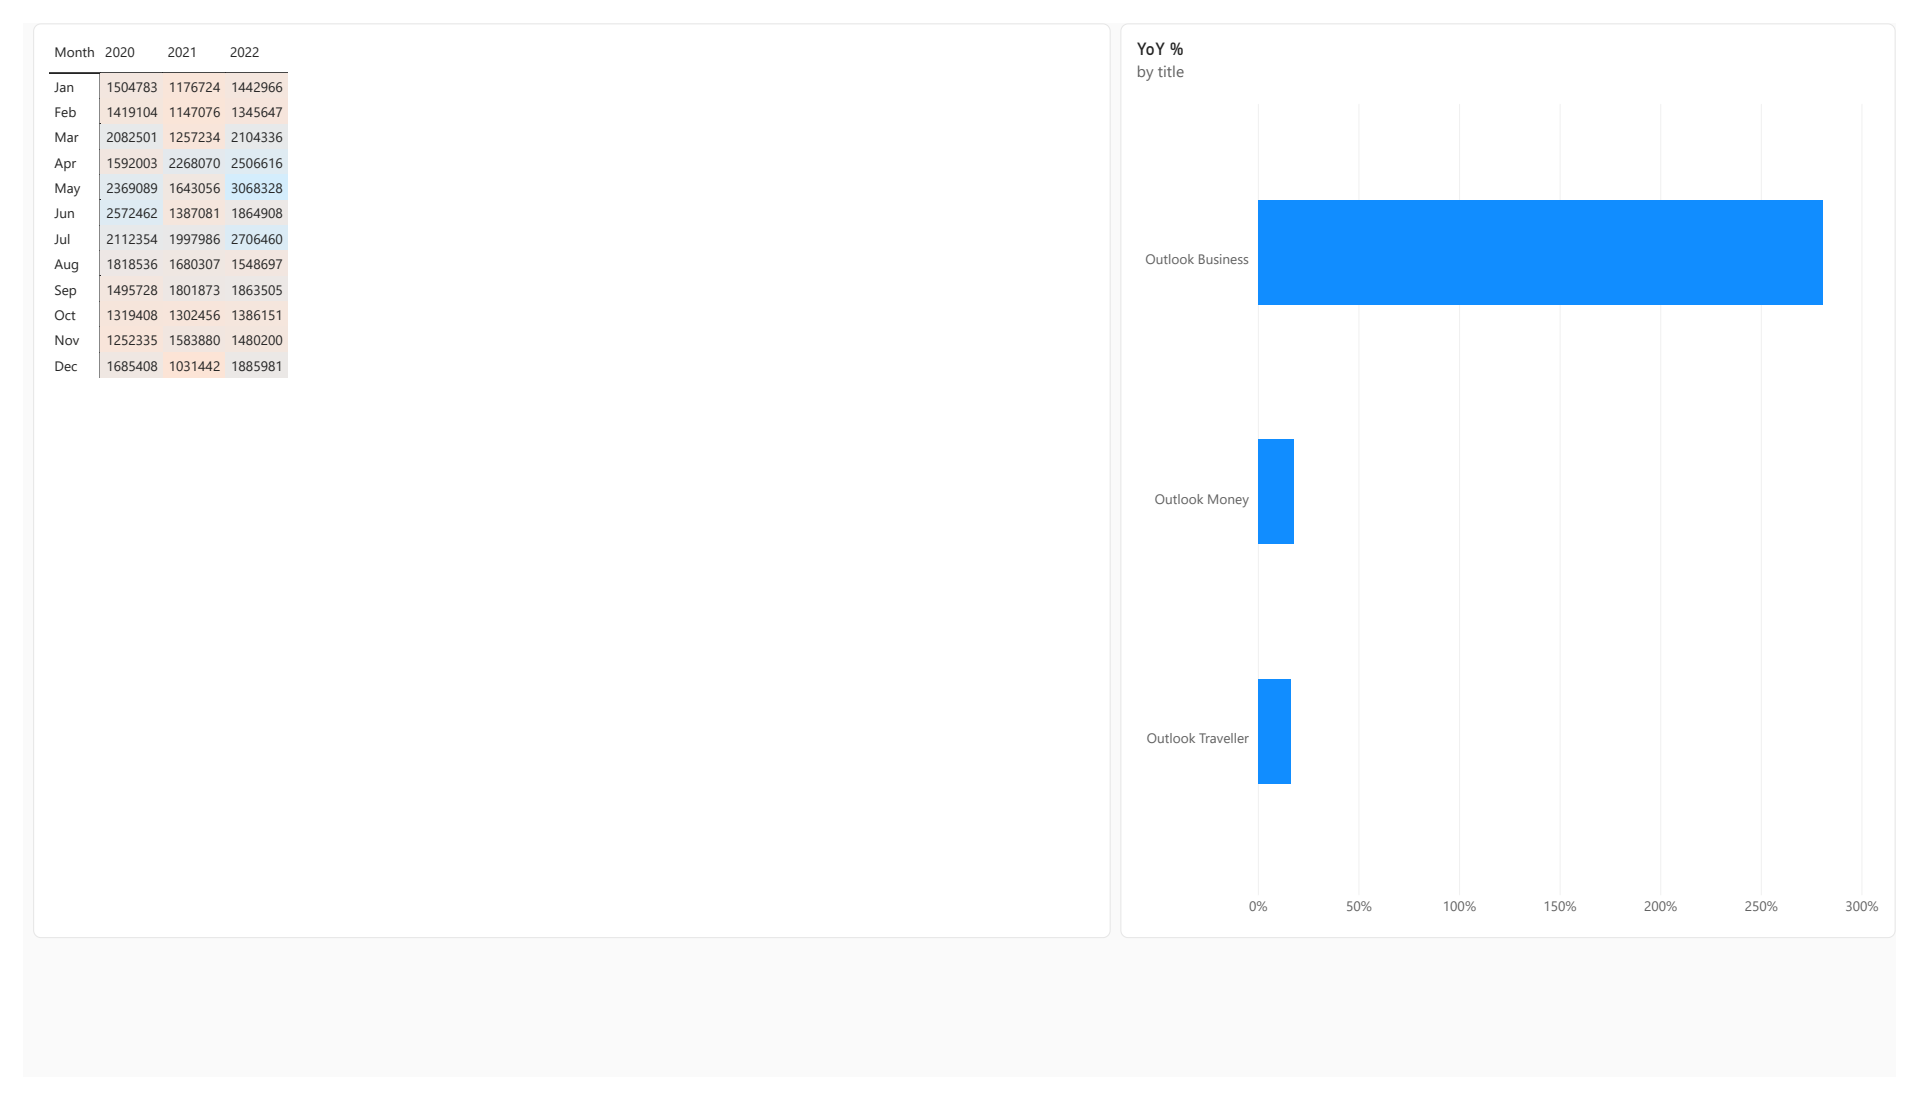

What the dashboard file says about the page in this screenshot:
{"tool":"powerbi","page":{"name":"Seasonality & growth","canvas":[1920,1080],"ordinal":2},"visuals":[{"type":"pivotTable","fields":{"Columns":["Date.Year"],"Rows":["Date.Month"],"Values":["power_bi_monthly.Opening Balance"]},"box":[10.1,0,1105.2,938.3],"z":0},{"type":"clusteredBarChart","fields":{"Category":["power_bi_monthly.title"],"Y":["power_bi_monthly.YoY %"]},"box":[1125,0,795,938],"z":1}]}

Visuals, with their boxes in screenshot pixels (x1, y1, x2, y2), scaled from the page's 1920x1080 canvas onto the 1919x1100 screenshot:
pivotTable - Date.Year x Date.Month: (10, 0, 1115, 956)
clusteredBarChart - power_bi_monthly.title x power_bi_monthly.YoY %: (1124, 0, 1918, 955)
